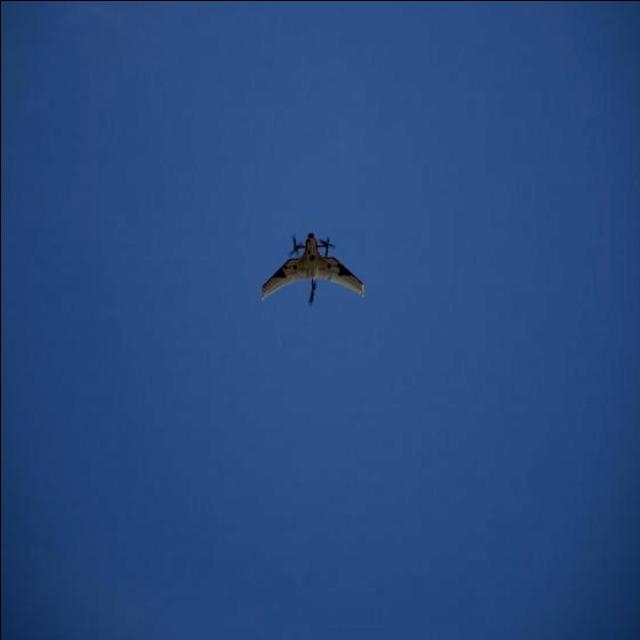plane: (259, 232, 366, 306)
